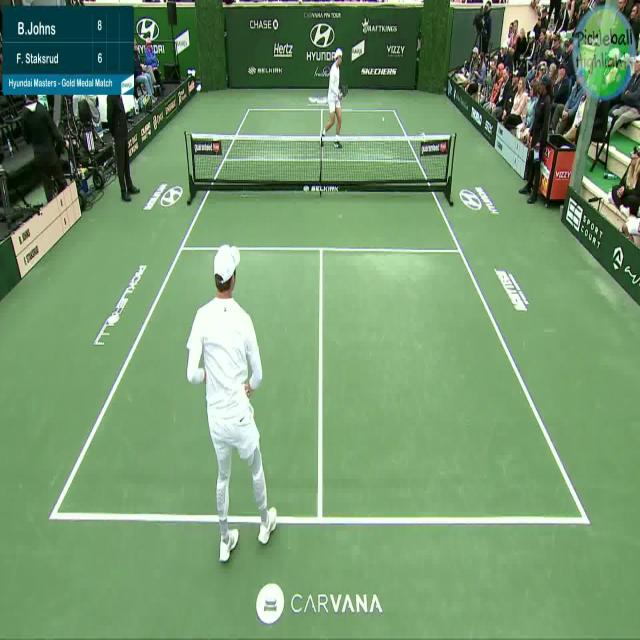Court: (51, 109, 585, 519)
ball: (379, 115, 388, 124)
